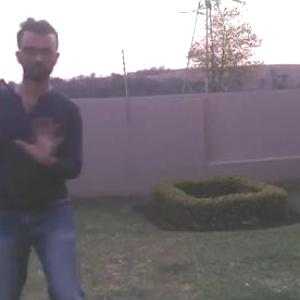follow_hand: (13, 113, 70, 163)
